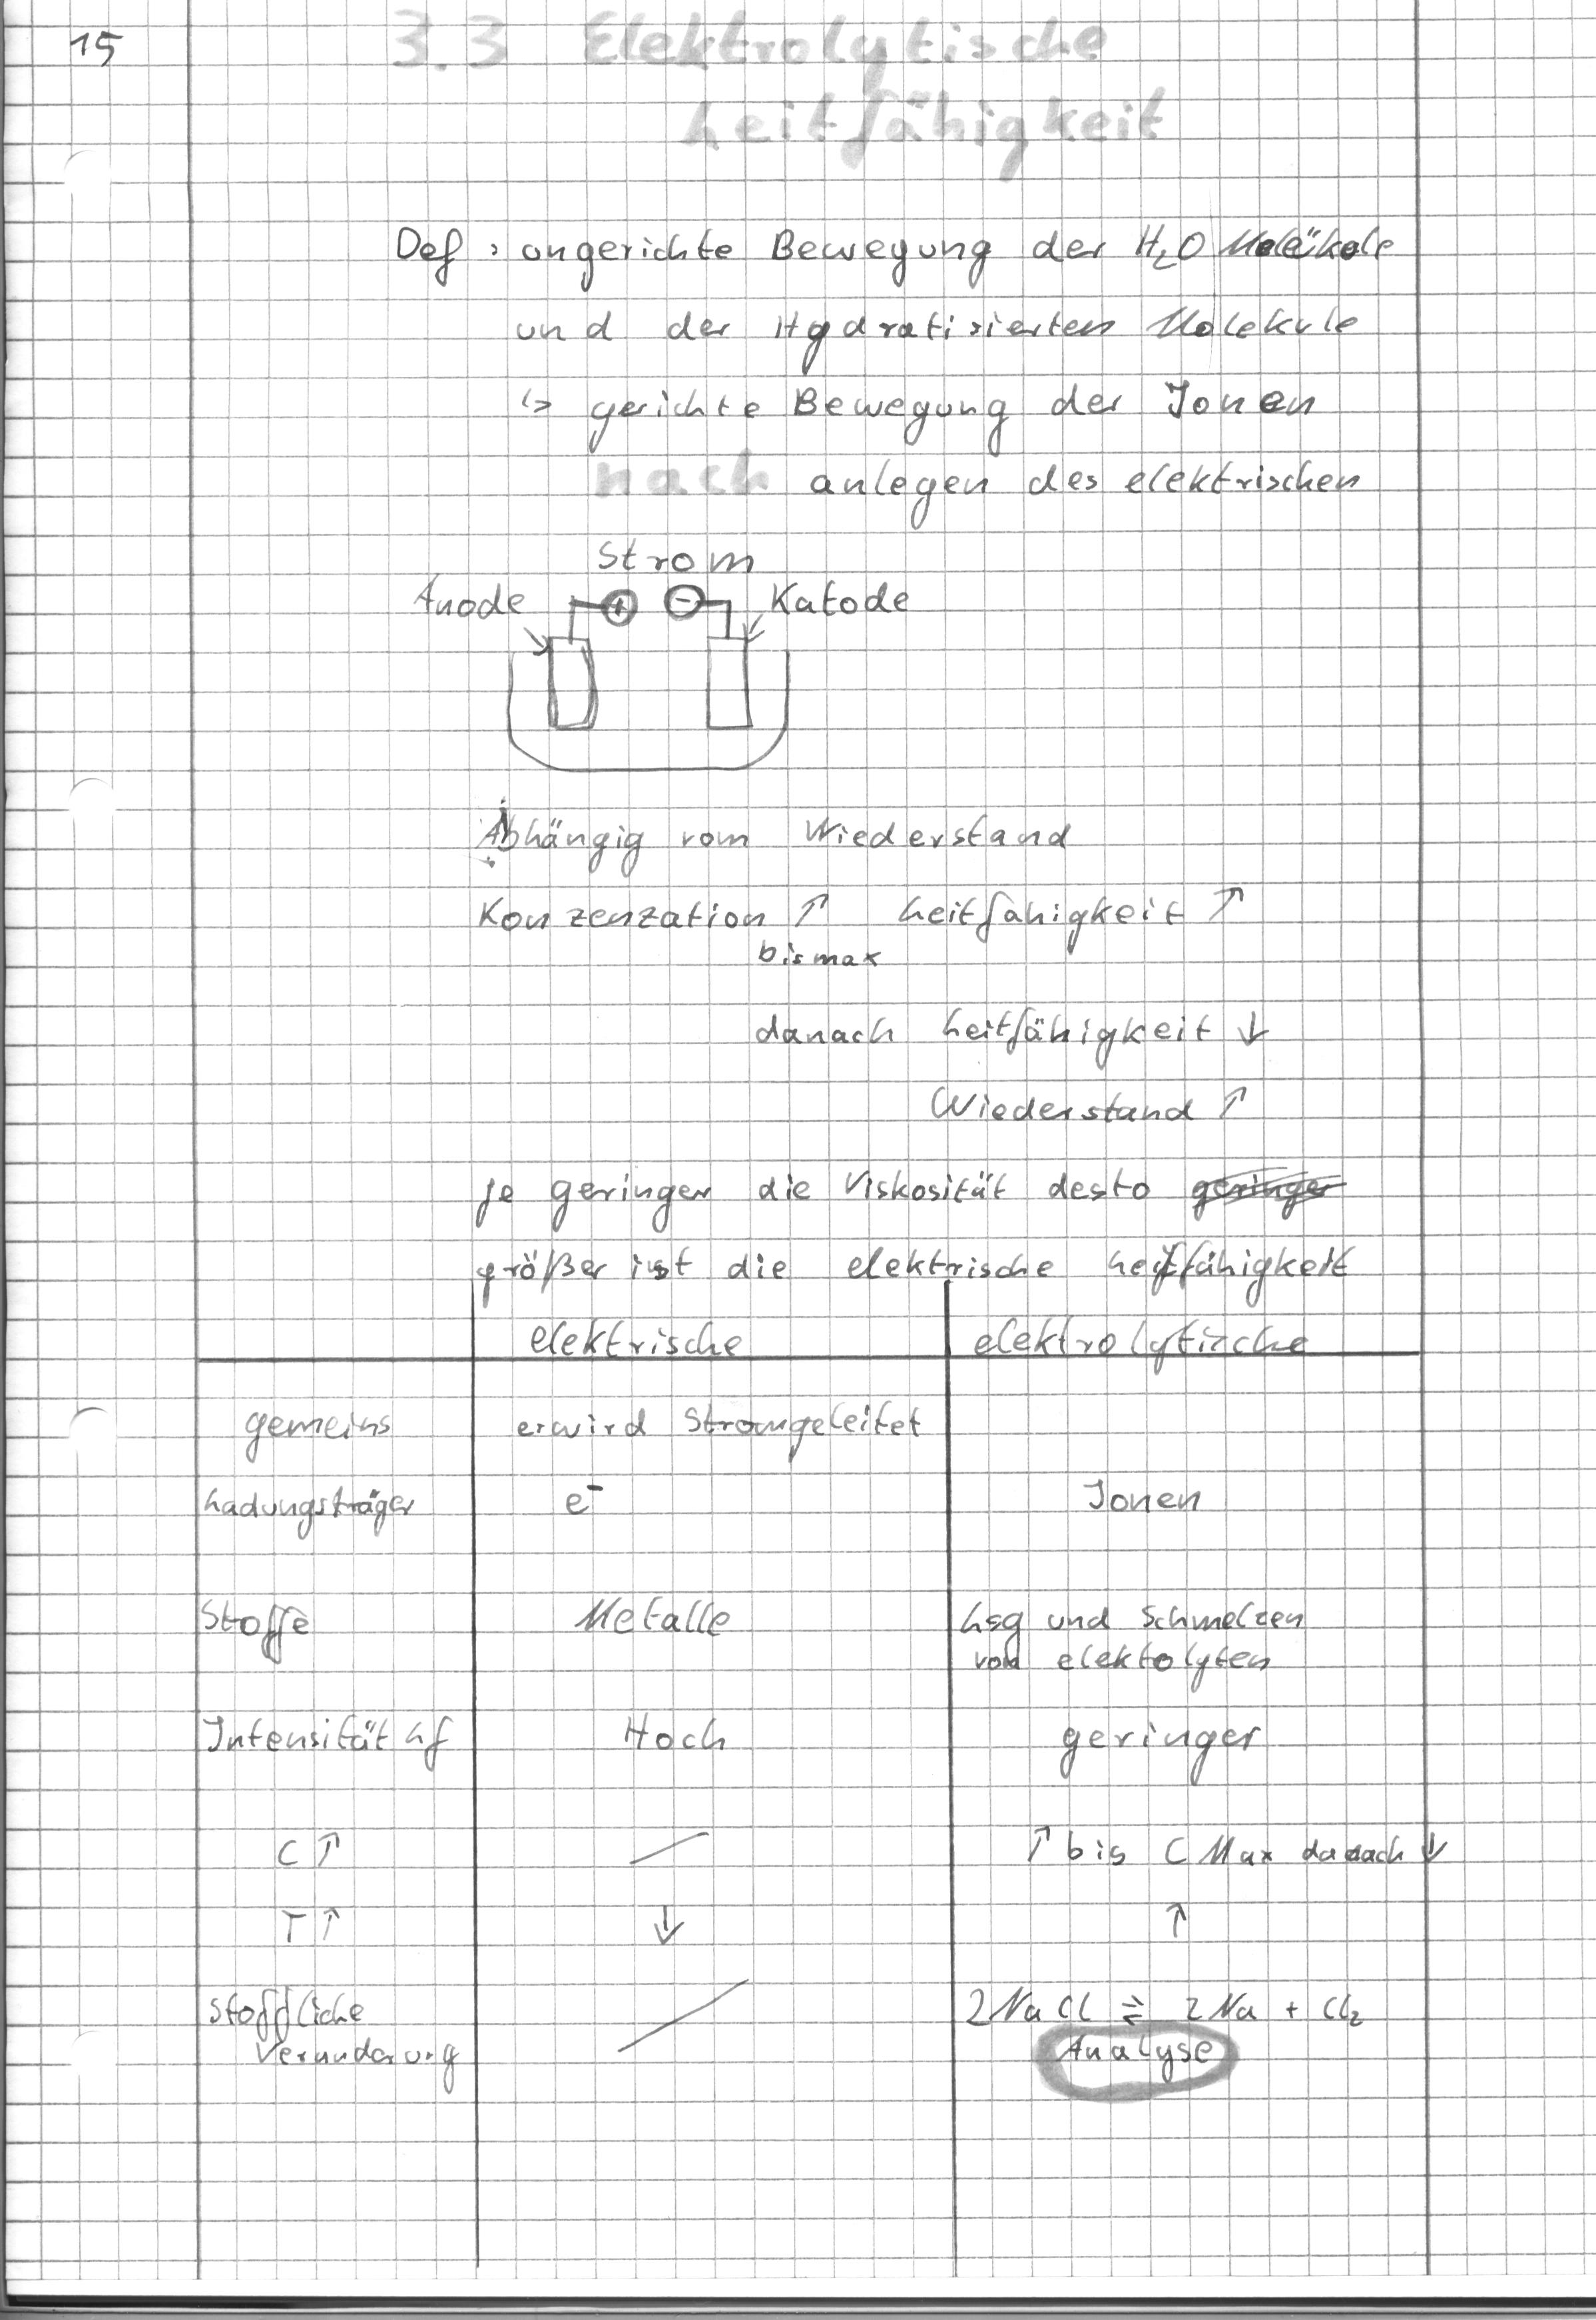word: (200, 1973, 1371, 2096), (197, 1592, 1302, 1699), (197, 1707, 1275, 1790), (384, 212, 1398, 297), (474, 870, 1243, 970), (271, 1817, 1458, 1880), (473, 1230, 1360, 1312), (514, 297, 1364, 377), (519, 379, 1326, 462), (465, 1164, 1354, 1235), (410, 533, 916, 647), (274, 1889, 1200, 1952), (233, 1386, 935, 1466), (468, 792, 1079, 882), (523, 1314, 1307, 1384), (800, 447, 1368, 540), (750, 1003, 1269, 1071), (197, 1473, 619, 1550), (926, 1080, 1257, 1136), (1065, 1459, 1220, 1541)
